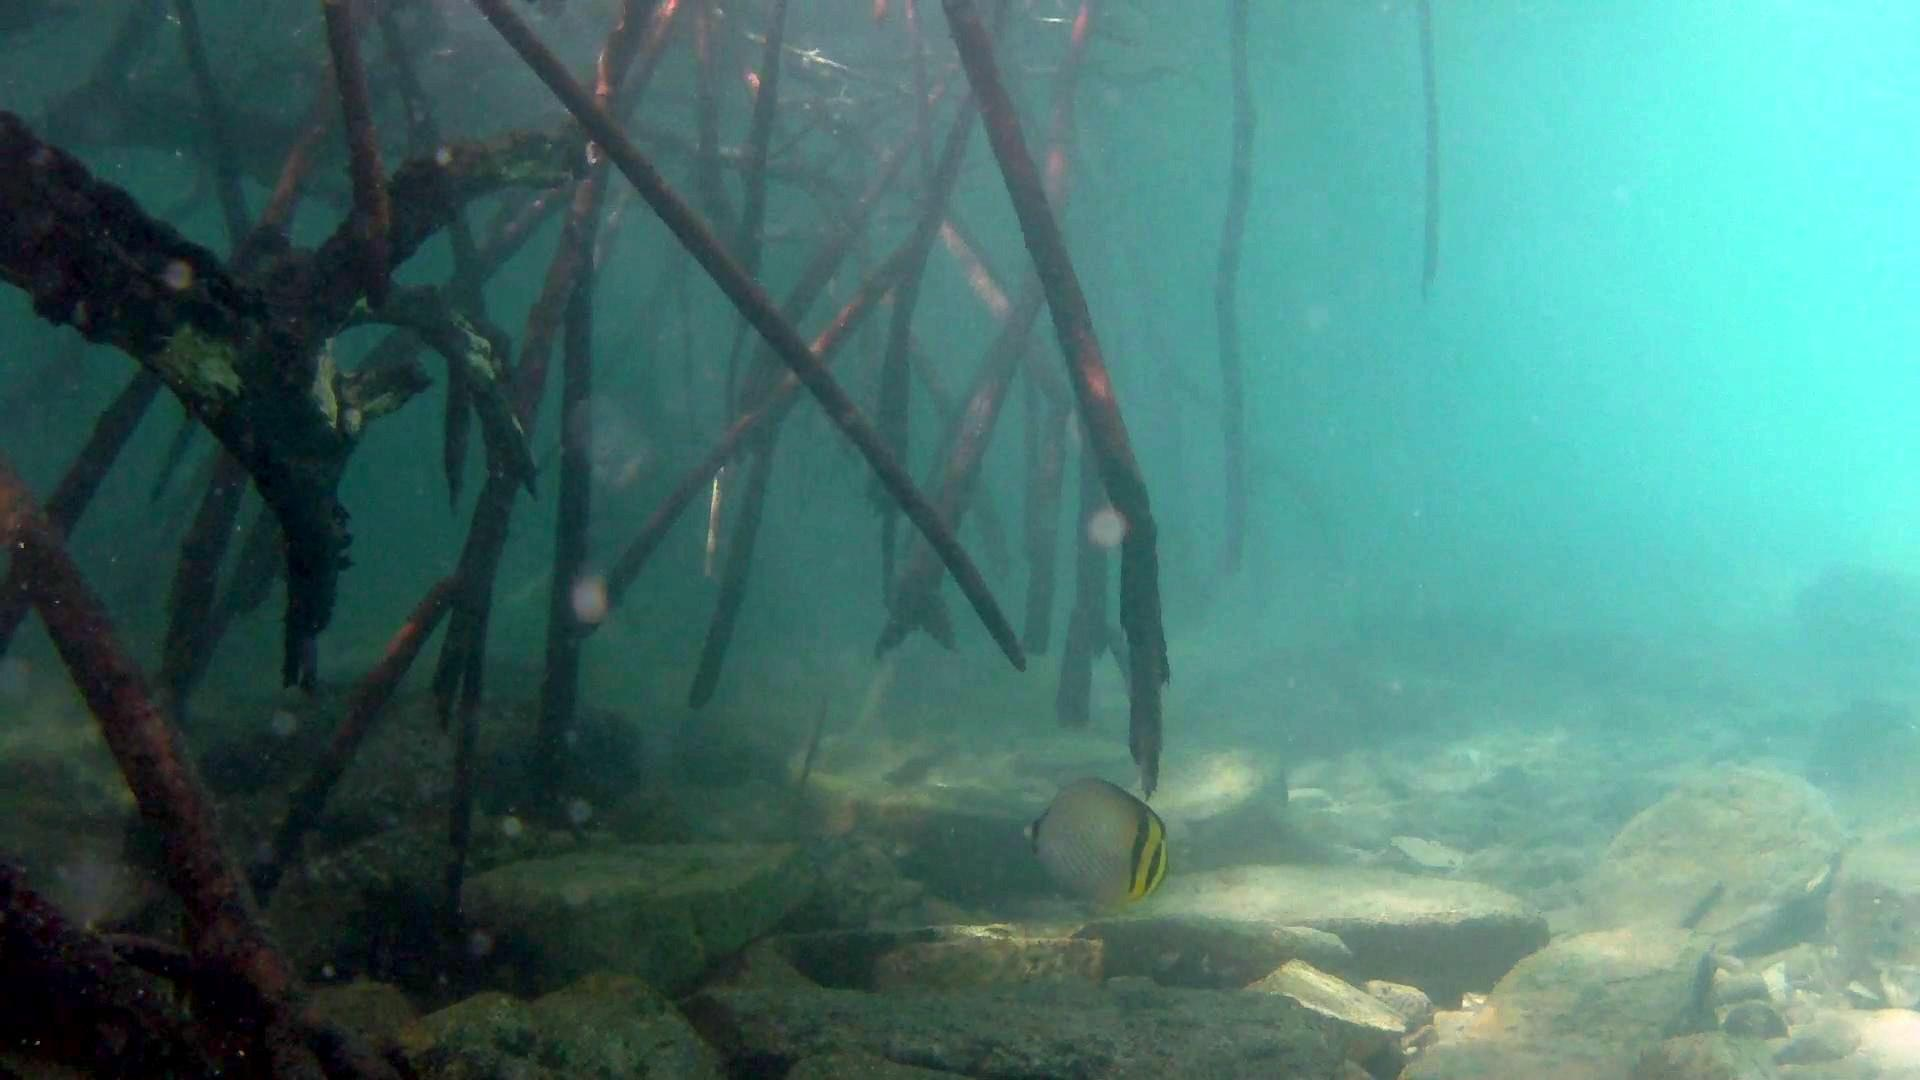chaetodon vagabundus: (1015, 769, 1176, 914)
